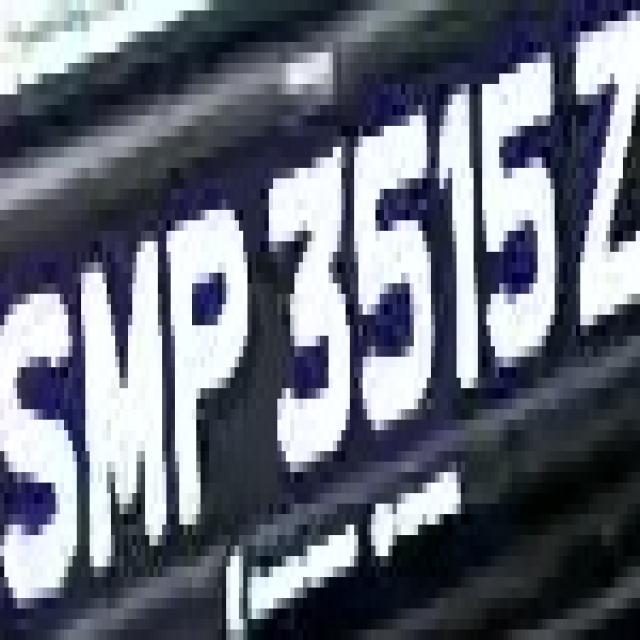1: (422, 73, 495, 420)
3: (256, 126, 354, 504)
5: (470, 42, 584, 388), (346, 95, 435, 482)
M: (72, 199, 166, 577)
P: (162, 200, 260, 524)
S: (0, 4, 1, 11)
Z: (554, 21, 640, 346)
